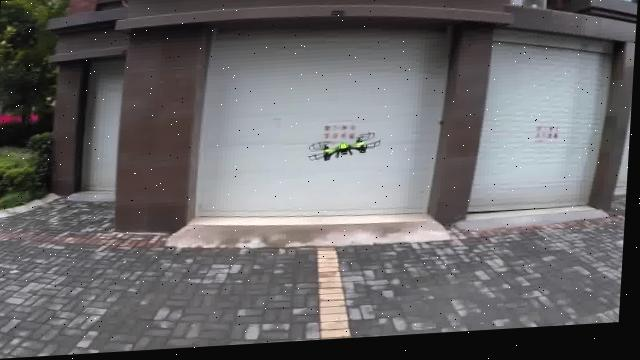drone: (305, 127, 384, 166)
